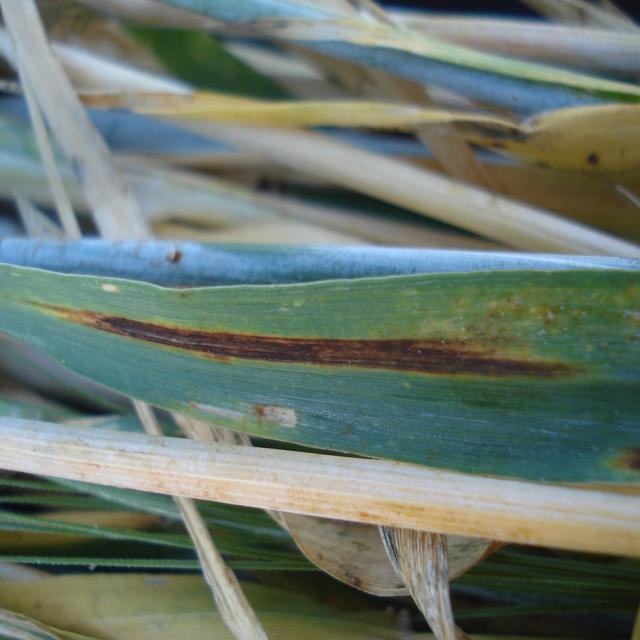wheat-stemrust: (5, 300, 579, 379), (252, 401, 297, 429), (608, 449, 640, 469)
